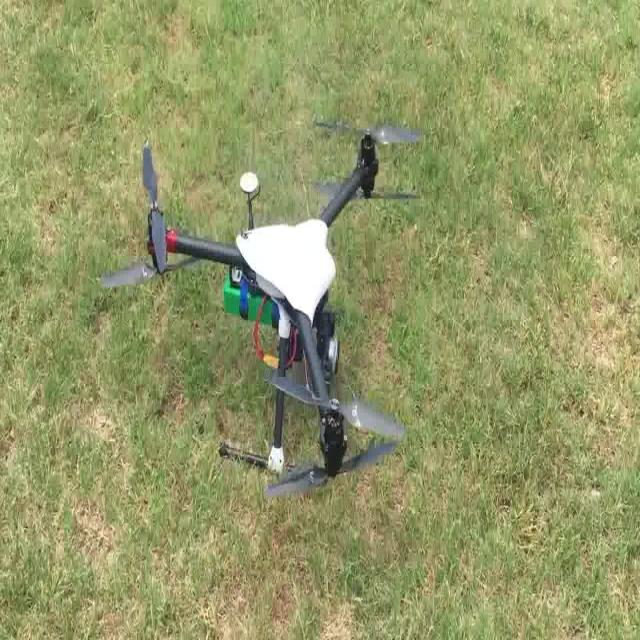Drone_FW: (98, 113, 422, 499)
